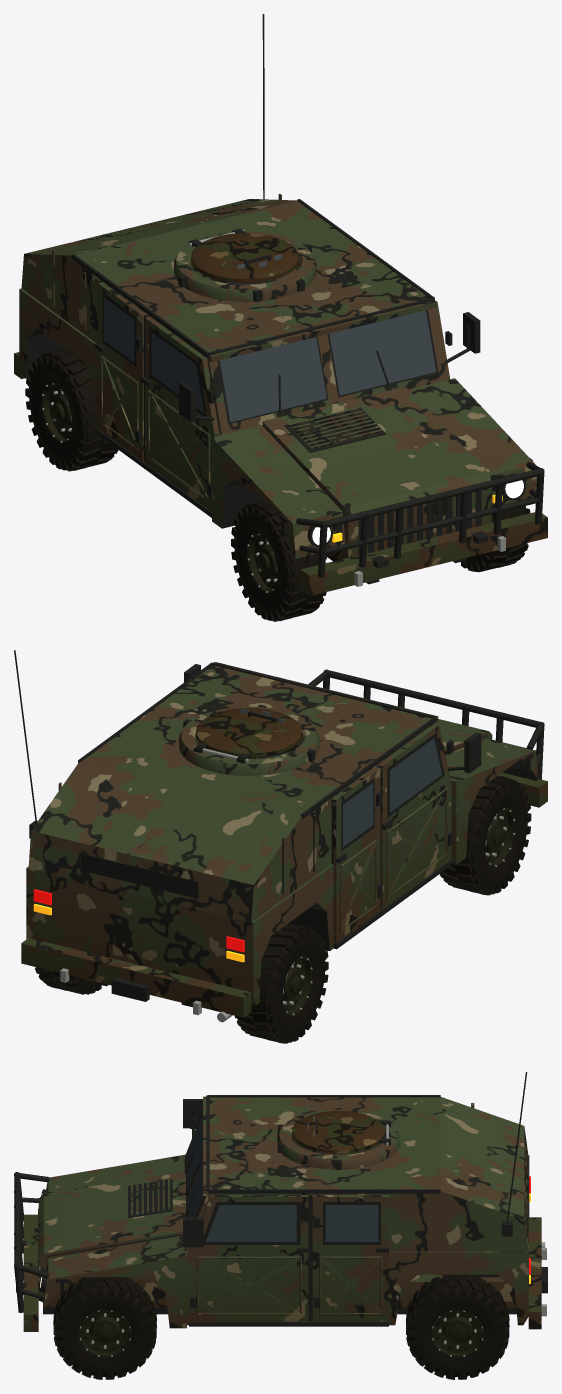
File: humvee.gltf
3 renders of one model, top to bottom at view 1: azimuth 30°, elevation 25°; view 2: azimuth 150°, elevation 25°; view 3: azimuth 270°, elevation 25°, orthographic. The views are drawn at different scales.
Visible parts, largest first — view 1: body, wheel_2_2, wheel_2_1, hatch_roof, wheel_1_1; view 2: body, wheel_2_2, wheel_2_1, hatch_roof, wheel_1_2; view 3: body, wheel_1_2, wheel_1_1, hatch_roof.
Part boxes in pixels (x1,y1,x2,y2): body: [14, 14, 547, 595]; wheel_2_2: [25, 349, 118, 471]; wheel_2_1: [231, 500, 326, 621]; hatch_roof: [188, 228, 298, 282]; wheel_1_1: [461, 506, 530, 572]; body: [14, 650, 547, 1022]; wheel_2_2: [234, 923, 328, 1043]; wheel_2_1: [439, 776, 531, 895]; hatch_roof: [193, 708, 302, 762]; wheel_1_2: [35, 967, 101, 994]; body: [14, 1072, 547, 1331]; wheel_1_2: [406, 1274, 509, 1379]; wheel_1_1: [53, 1277, 156, 1379]; hatch_roof: [292, 1111, 389, 1153].
Bounding box in the file's own units: 2.67 × 3.21 × 4.97.
Materials: 11 (1 with a texture image).
